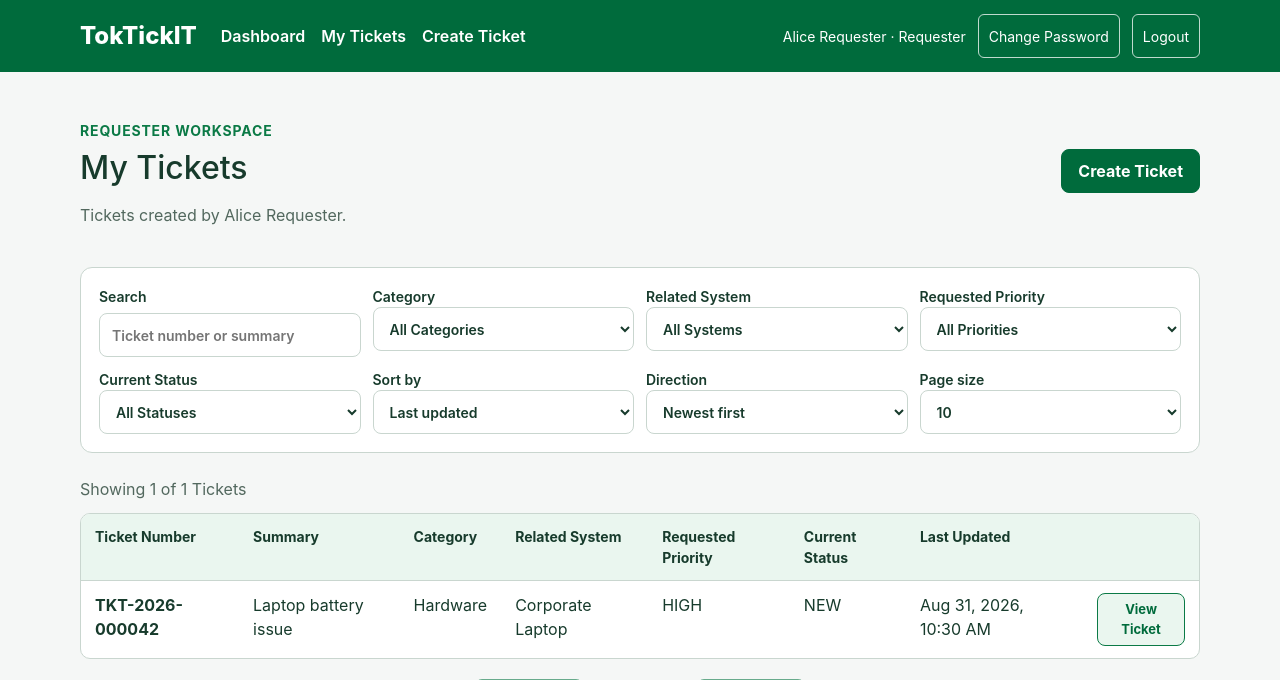
Requester Ticket Detail screen › shows a safe not-found state for a missing or non-owned Ticket
expect the table is shown: met, box [81, 514, 1199, 658]
Click the button "View Ticket" at (1141, 620), box [1097, 593, 1185, 646]
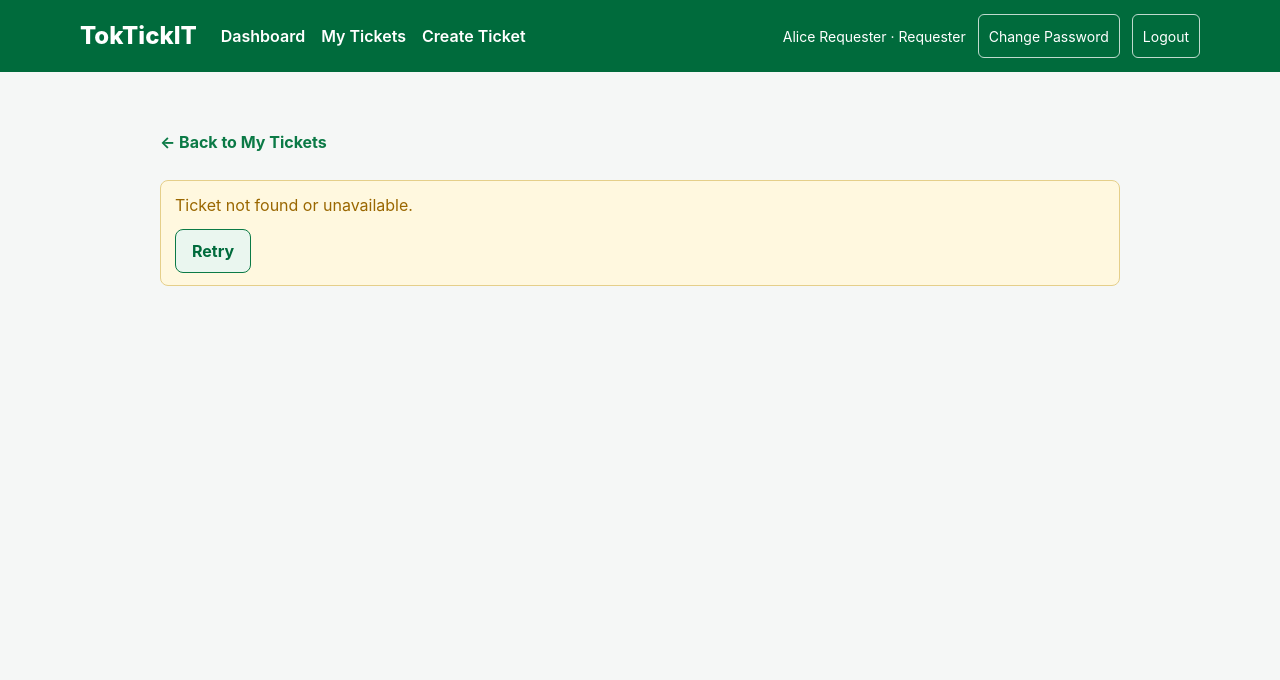
expect the message shows "Ticket not found or unavailable.": met, box [175, 195, 413, 215]
expect the text "TKT-2026-000042" is gone: met
expect the text "Laptop battery issue" is gone: met
